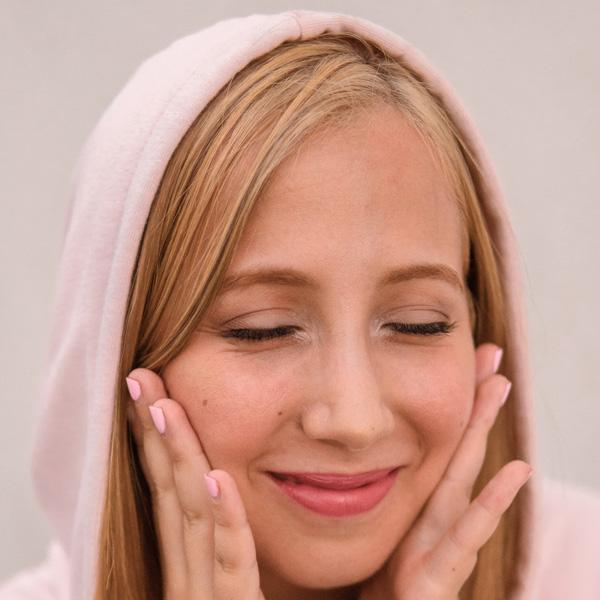Eyes: (211, 304, 313, 358), (370, 296, 462, 348)
